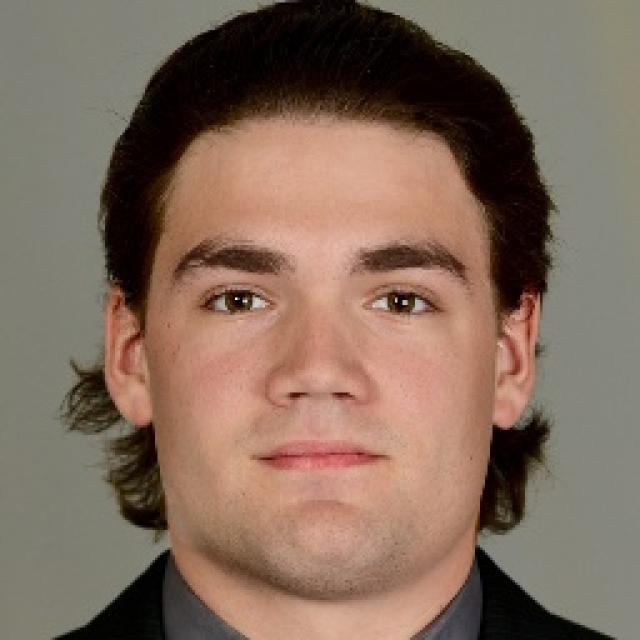earlobe: (102, 282, 152, 429), (491, 282, 541, 429)
